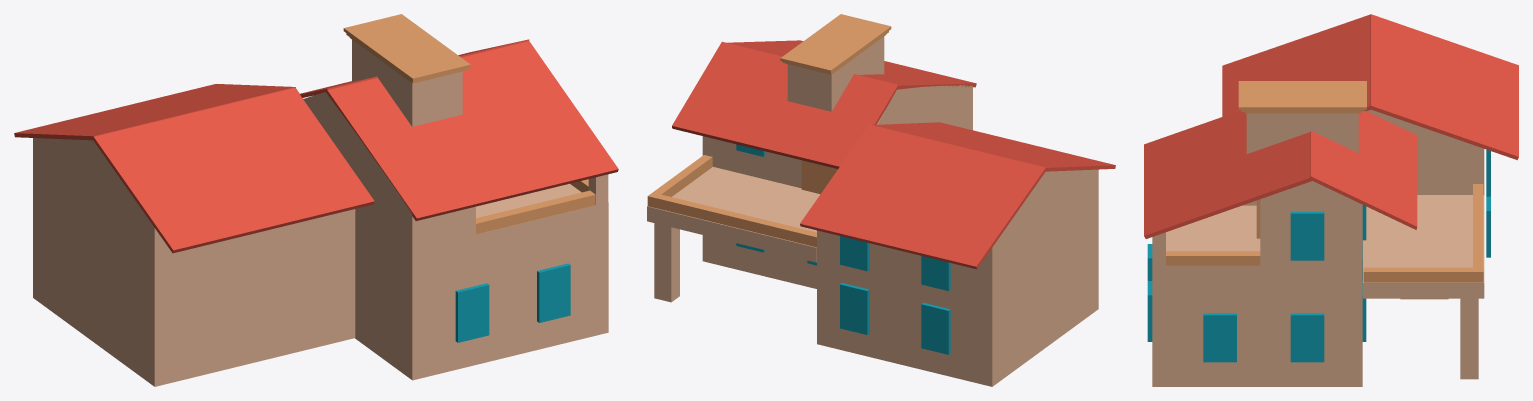
The model's file is Rijkehuis_india.fbx.
3 views of the same model, side by side, from view 1: azimuth 30°, elevation 25°; view 2: azimuth 150°, elevation 25°; view 3: azimuth 270°, elevation 25° (orthographic). The views are drawn at different scales.
Parts seen in each view (by area): view 1: Cube, Cube.006, Cube.001, Cube.007, Cube.026, Cube.002, Cube.008, Cube.014, Cube.013, Cube.005; view 2: Cube, Cube.007, Cube.005, Cube.006, Cube.026, Cube.002, Cube.025, Cube.001, Cube.020, Cube.022, Cube.024, Cube.021 (+2 smaller); view 3: Cube, Cube.007, Cube.001, Cube.005, Cube.006, Cube.026, Cube.002, Cube.024, Cube.011, Cube.012, Cube.010, Cube.004 (+3 smaller).
Part boxes in pixels (left/top/right/bottom): Cube: left=33, top=92, right=608, bottom=386; Cube.006: left=93, top=88, right=374, bottom=253; Cube.001: left=325, top=41, right=618, bottom=220; Cube.007: left=14, top=84, right=295, bottom=140; Cube.026: left=343, top=14, right=470, bottom=83; Cube.002: left=352, top=40, right=462, bottom=126; Cube.008: left=476, top=190, right=595, bottom=234; Cube.014: left=455, top=283, right=489, bottom=342; Cube.013: left=537, top=263, right=570, bottom=322; Cube.005: left=300, top=39, right=529, bottom=97; Cube: left=647, top=84, right=1098, bottom=386; Cube.007: left=800, top=124, right=1045, bottom=269; Cube.005: left=672, top=41, right=898, bottom=168; Cube.006: left=872, top=122, right=1115, bottom=171; Cube.026: left=780, top=14, right=891, bottom=74; Cube.002: left=787, top=36, right=884, bottom=111; Cube.025: left=656, top=194, right=816, bottom=247; Cube.001: left=727, top=40, right=976, bottom=89; Cube.020: left=840, top=283, right=869, bottom=334; Cube.022: left=921, top=302, right=950, bottom=354; Cube.024: left=647, top=155, right=712, bottom=207; Cube.021: left=840, top=236, right=869, bottom=271; Cube: left=1152, top=109, right=1484, bottom=386; Cube.007: left=1369, top=14, right=1518, bottom=160; Cube.001: left=1144, top=110, right=1311, bottom=238; Cube.005: left=1310, top=110, right=1417, bottom=229; Cube.006: left=1222, top=14, right=1370, bottom=116; Cube.026: left=1238, top=81, right=1366, bottom=113; Cube.002: left=1246, top=113, right=1358, bottom=153; Cube.024: left=1363, top=267, right=1483, bottom=282; Cube.011: left=1290, top=313, right=1324, bottom=362; Cube.012: left=1290, top=211, right=1324, bottom=260; Cube.010: left=1203, top=313, right=1236, bottom=362; Cube.004: left=1166, top=251, right=1260, bottom=265.
Size of the model in its own units: 3471 by 2110 by 3006.
